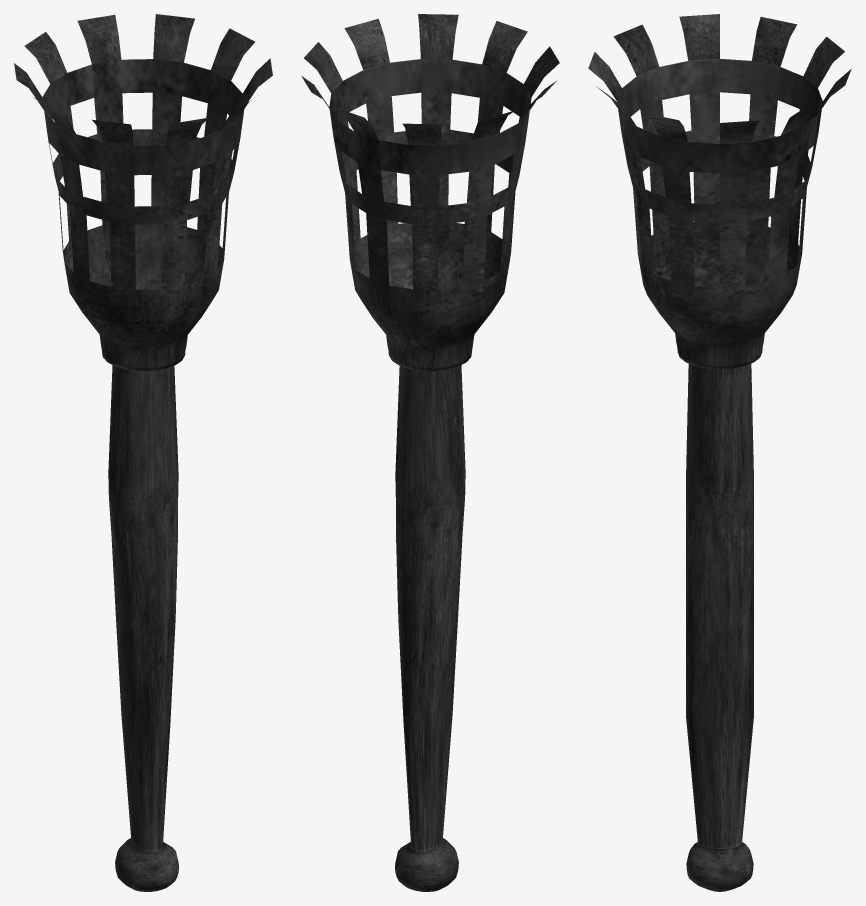
The model's file is Torch_Model.fbx.
The picture shows the model from 3 angles, left to right: view 1: azimuth 30°, elevation 25°; view 2: azimuth 150°, elevation 25°; view 3: azimuth 270°, elevation 25°; orthographic projection.
Visible parts, largest first — view 1: Torch; view 2: Torch; view 3: Torch.
Part boxes in pixels (box(x1,y1,x2,y2)): Torch: box(14, 14, 272, 891); Torch: box(301, 14, 559, 891); Torch: box(588, 14, 851, 891).
Bounding box in the file's own units: 4.18 × 14.59 × 4.28.
1 material, 1 textured.
